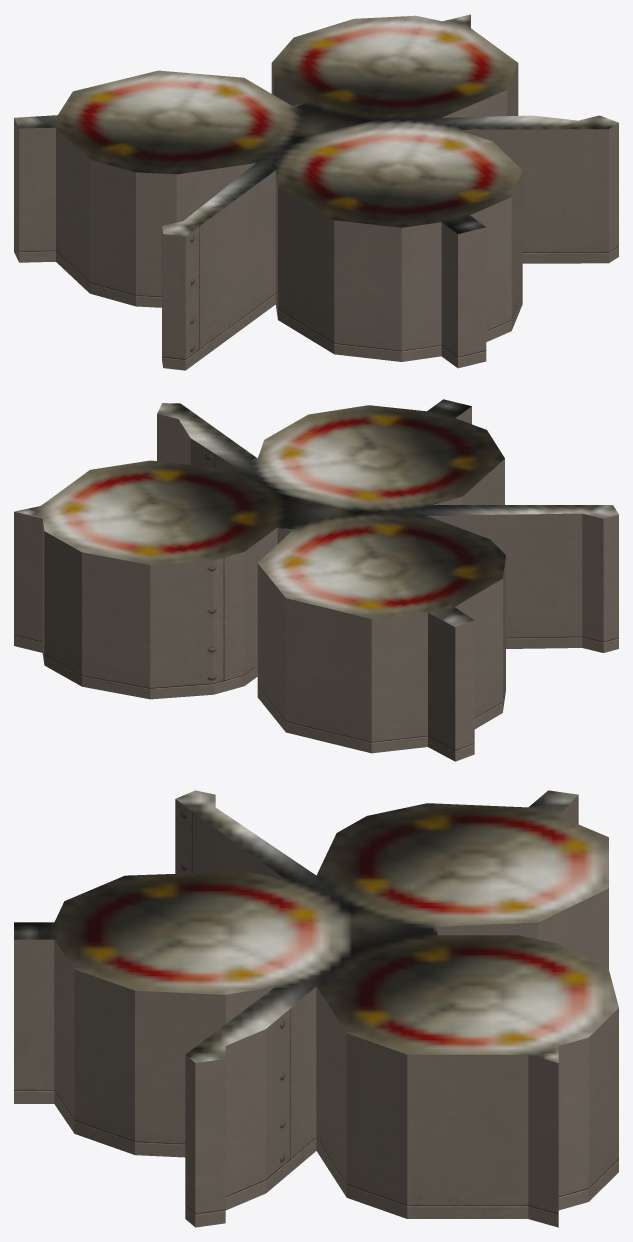
The model's file is fuel_tank_light_62.glb.
3 renders of one model, top to bottom at view 1: azimuth 30°, elevation 25°; view 2: azimuth 150°, elevation 25°; view 3: azimuth 270°, elevation 25°, orthographic. The views are drawn at different scales.
Parts seen in each view (by area): view 1: buildings/saxarba/fuel_tanks/fuel_tank_light_62; view 2: buildings/saxarba/fuel_tanks/fuel_tank_light_62; view 3: buildings/saxarba/fuel_tanks/fuel_tank_light_62.
Part boxes in pixels (left/top/right/bottom): buildings/saxarba/fuel_tanks/fuel_tank_light_62: left=14, top=14, right=618, bottom=370; buildings/saxarba/fuel_tanks/fuel_tank_light_62: left=14, top=399, right=618, bottom=761; buildings/saxarba/fuel_tanks/fuel_tank_light_62: left=14, top=790, right=618, bottom=1227.
Bounding box in the file's own units: 64 × 18 × 60.
